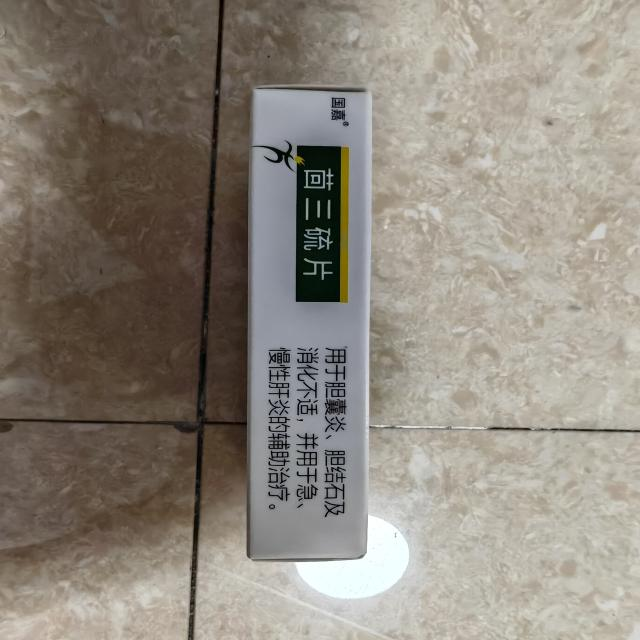box: (235, 78, 388, 574)
